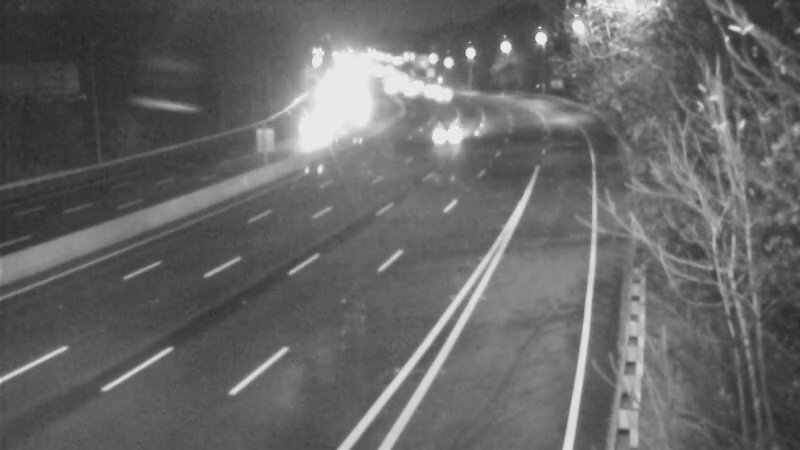vehicle: (417, 109, 467, 159), (286, 114, 336, 164)
